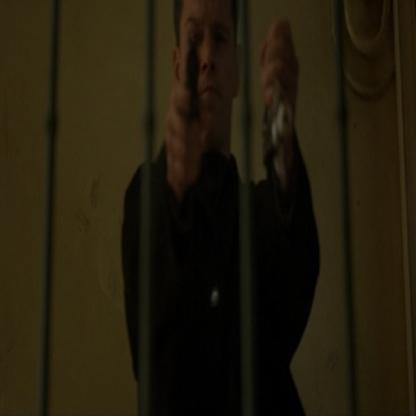Pistol: (255, 68, 298, 169), (182, 41, 205, 135)
